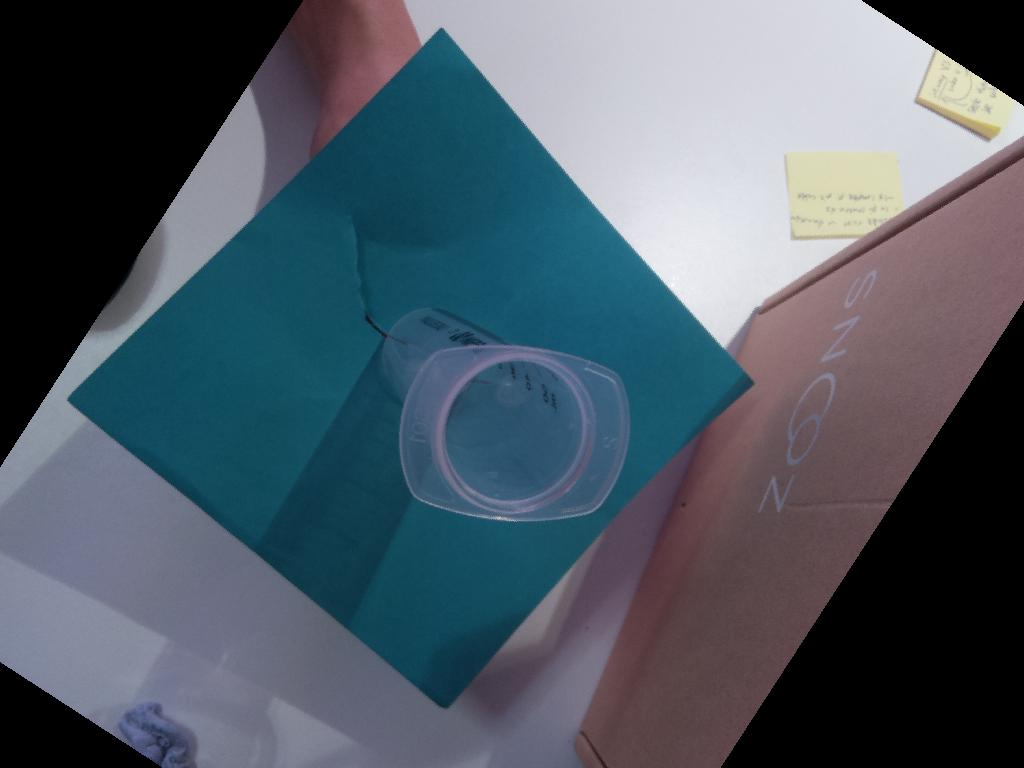clean: (398, 345, 632, 524)
